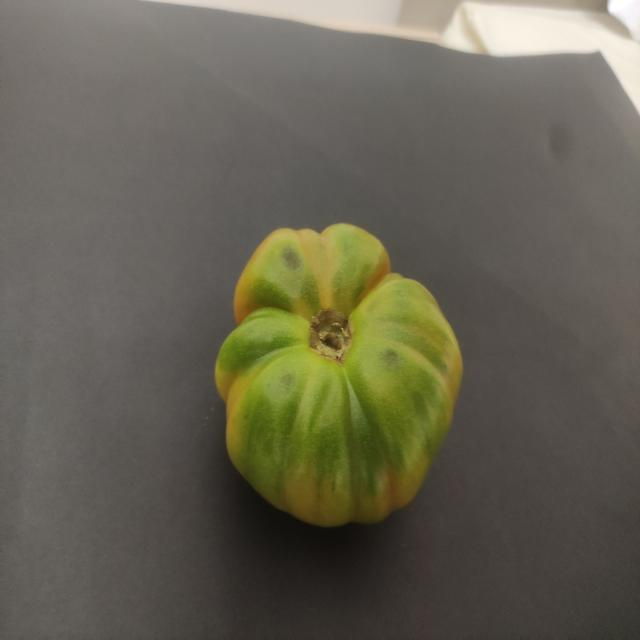yesil: (202, 207, 478, 540)
